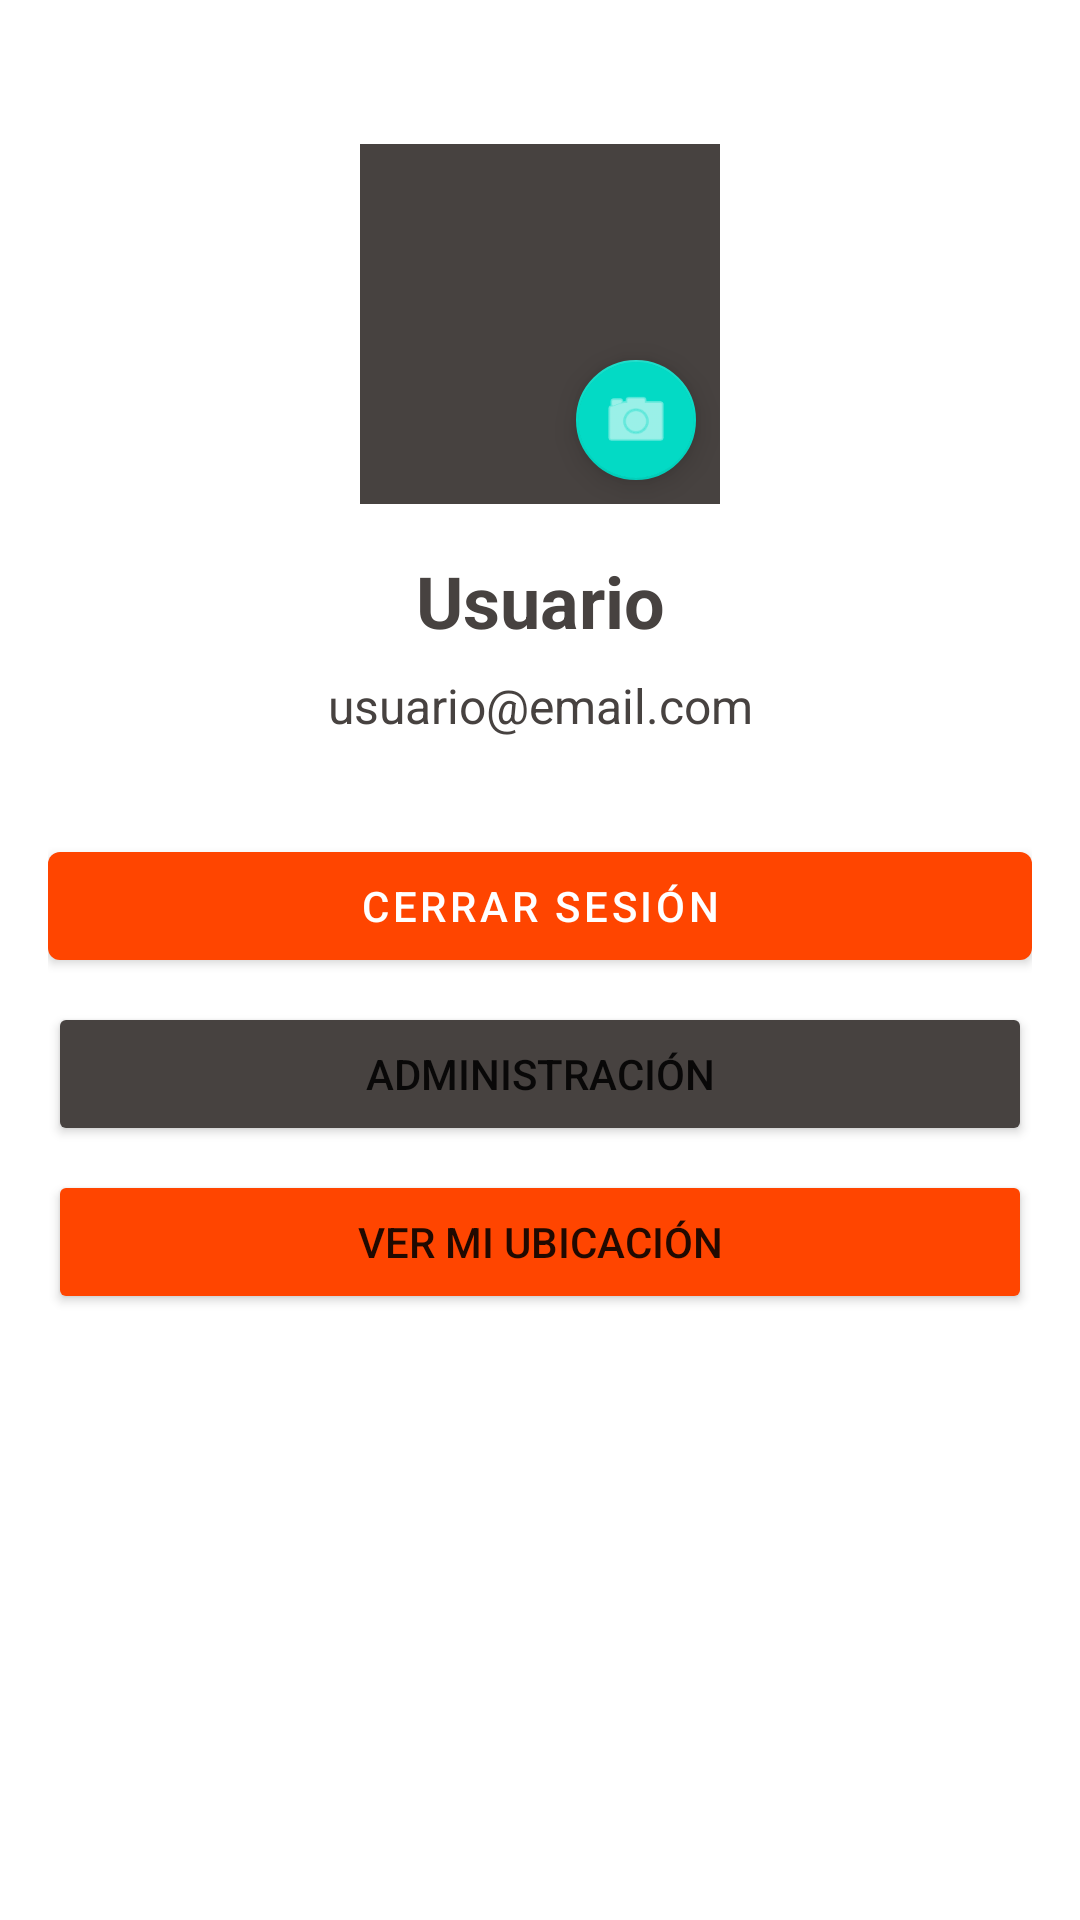

Locate icon controls on the screen. Image size 1080×1920, boxes as bbox(x1, y1, x2, y2).
Editar foto de perfil: bbox(576, 360, 696, 480)
